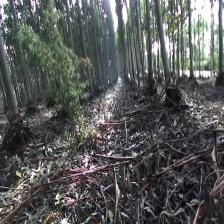trunk: (0, 29, 18, 119), (155, 4, 173, 86), (146, 2, 154, 88), (216, 6, 223, 83), (188, 4, 194, 81)
